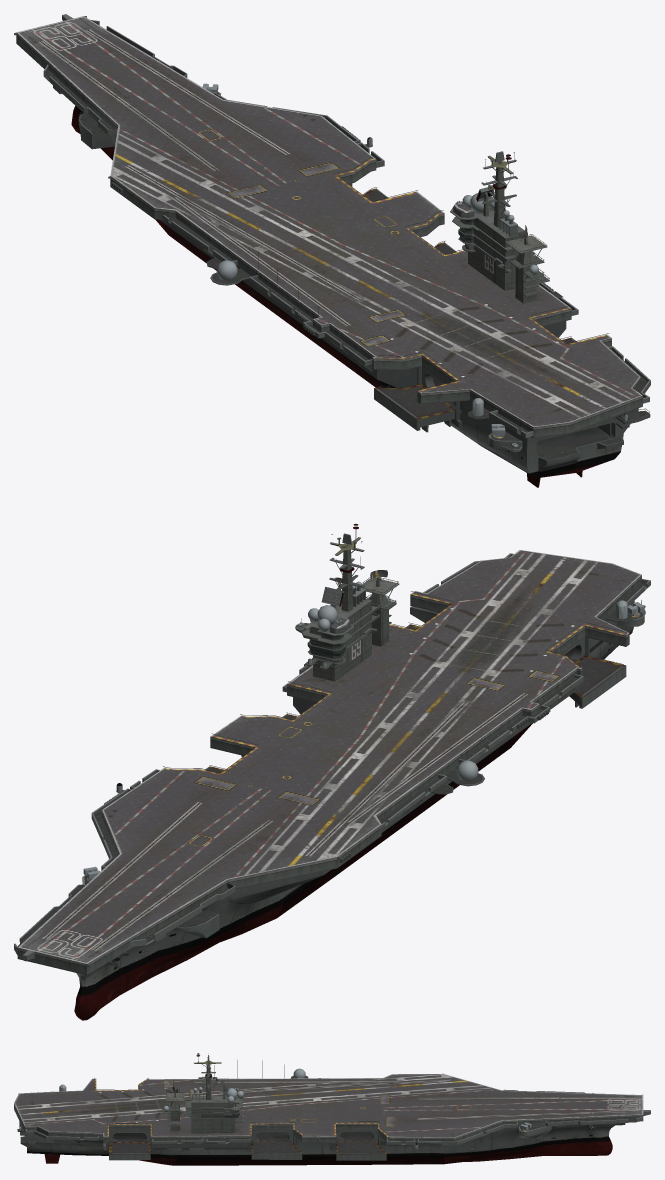
File: uss-dwight-d-eisenhower-cvn-69.glb
3 renders of one model, top to bottom at view 1: azimuth 30°, elevation 25°; view 2: azimuth 150°, elevation 25°; view 3: azimuth 270°, elevation 25°, orthographic. The views are drawn at different scales.
Parts seen in each view (by area): view 1: Object_3, Object_2; view 2: Object_3, Object_2; view 3: Object_3, Object_2.
Boxes of the visible parts, bbox=[...] form: Object_3: bbox=[16, 16, 650, 446]; Object_2: bbox=[14, 14, 650, 487]; Object_3: bbox=[14, 523, 650, 965]; Object_2: bbox=[15, 529, 645, 1020]; Object_3: bbox=[14, 1053, 643, 1165]; Object_2: bbox=[14, 1053, 650, 1165].
Bounding box in the file's own units: 294 × 242 × 1062.
Materials: 2 (2 with a texture image).
